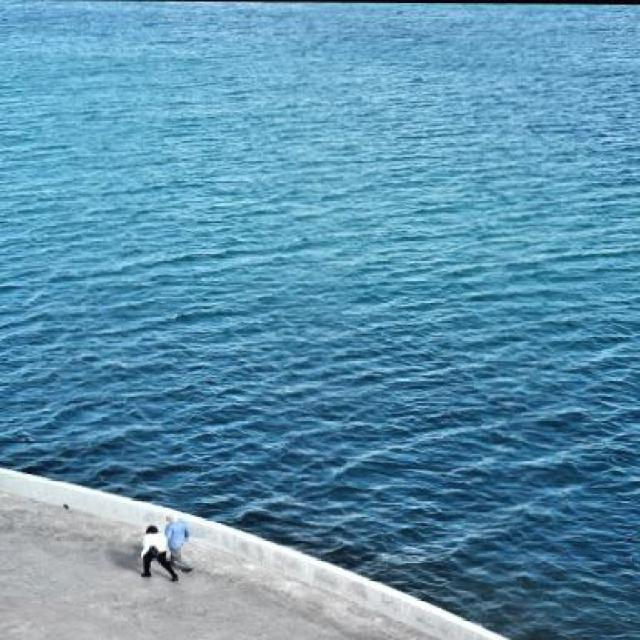Person: (134, 515, 177, 583), (157, 507, 201, 571)
